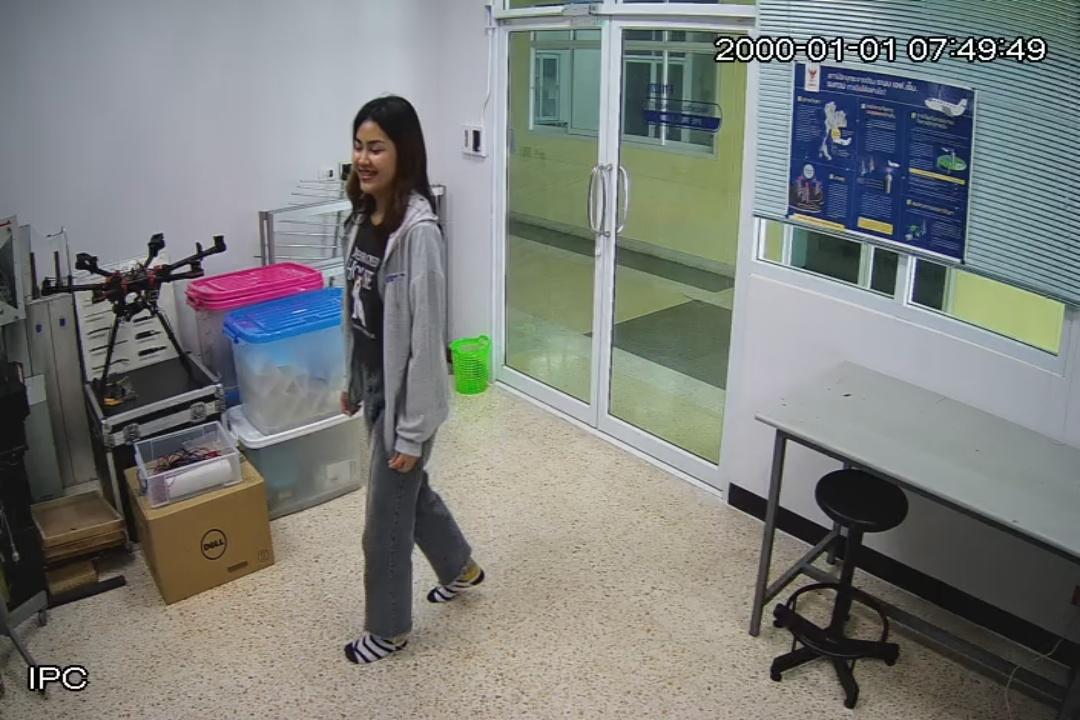normal: (340, 94, 485, 668)
